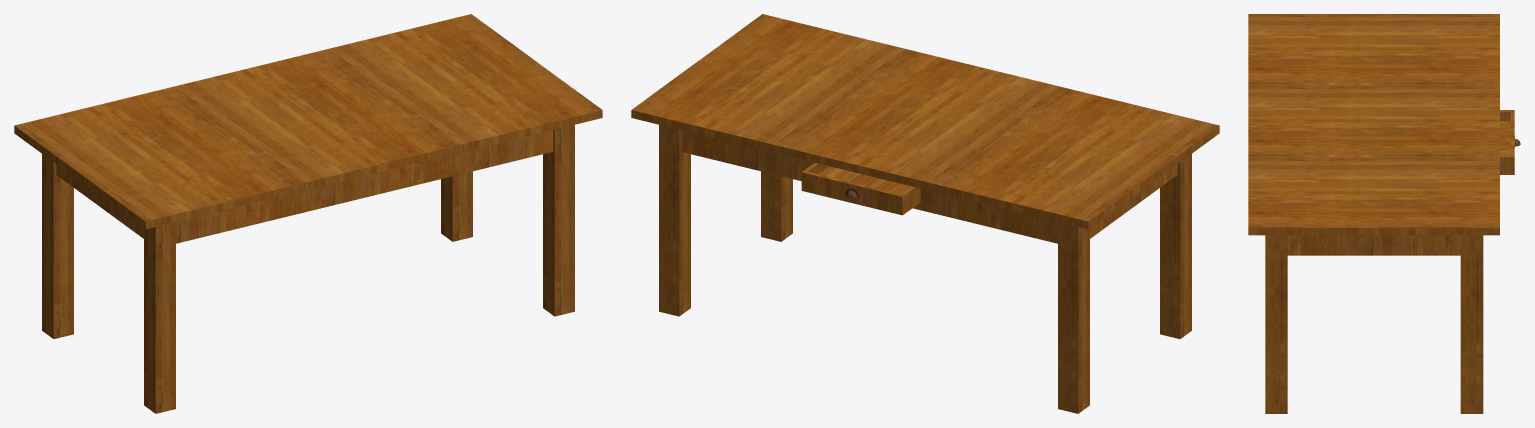
3 views of the same model, side by side, from view 1: azimuth 30°, elevation 25°; view 2: azimuth 150°, elevation 25°; view 3: azimuth 270°, elevation 25° (orthographic). The views are drawn at different scales.
Visible parts, largest first — view 1: model_normalized.001; view 2: model_normalized.001; view 3: model_normalized.001.
Boxes of the visible parts, box(x1,y1,x2,y2) form: model_normalized.001: box(14, 14, 602, 413); model_normalized.001: box(631, 14, 1219, 413); model_normalized.001: box(1248, 14, 1520, 413).
Size of the model in its own units: 0.8247 by 0.3508 by 0.4437.
